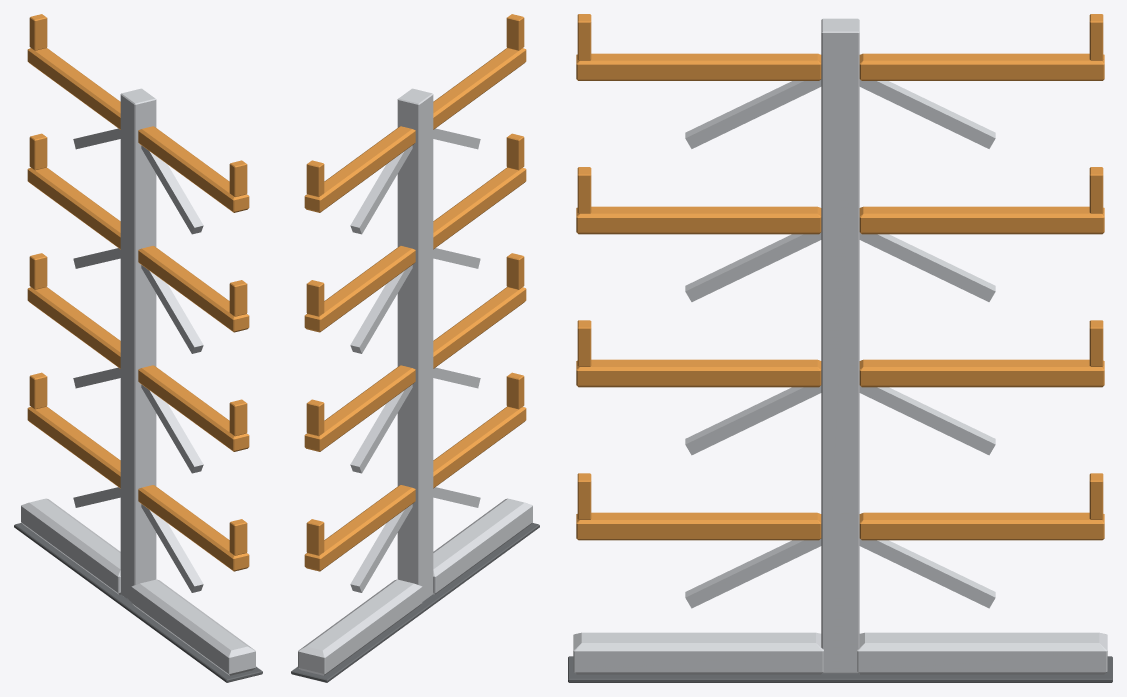
The model's file is cantilever-rack-double-sided.glb.
The picture shows the model from 3 angles, left to right: view 1: azimuth 30°, elevation 25°; view 2: azimuth 150°, elevation 25°; view 3: azimuth 270°, elevation 25°; orthographic projection. The views are drawn at different scales.
Parts seen in each view (by area): view 1: cantilever-rack-double; view 2: cantilever-rack-double; view 3: cantilever-rack-double.
Boxes of the visible parts, <box> form: cantilever-rack-double: <box>14,14,262,682</box>; cantilever-rack-double: <box>291,14,539,682</box>; cantilever-rack-double: <box>568,14,1112,682</box>.
Size of the model in its own units: 0.2 by 2.65 by 2.
